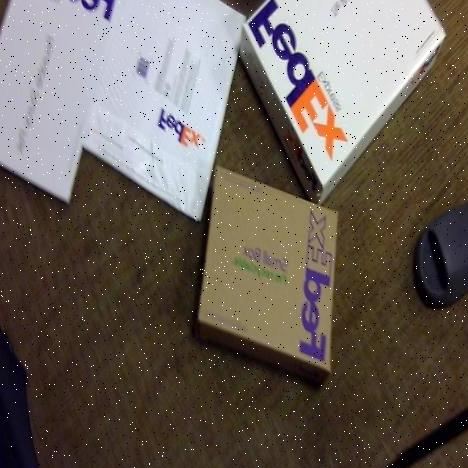Amazon: (248, 0, 441, 185), (192, 184, 336, 366), (0, 0, 110, 173)
